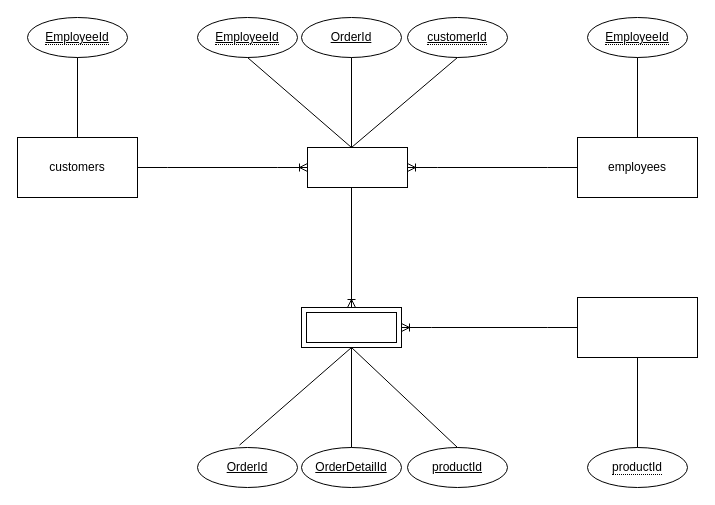
Some shapes in this 715 by 505 pixel diagram are drawn without their labels. Each missing label, with the centre of its shape:
"OrderDetail" goes at pixel 351 327.
"Orders" goes at pixel 357 167.
"products" goes at pixel 637 327.
